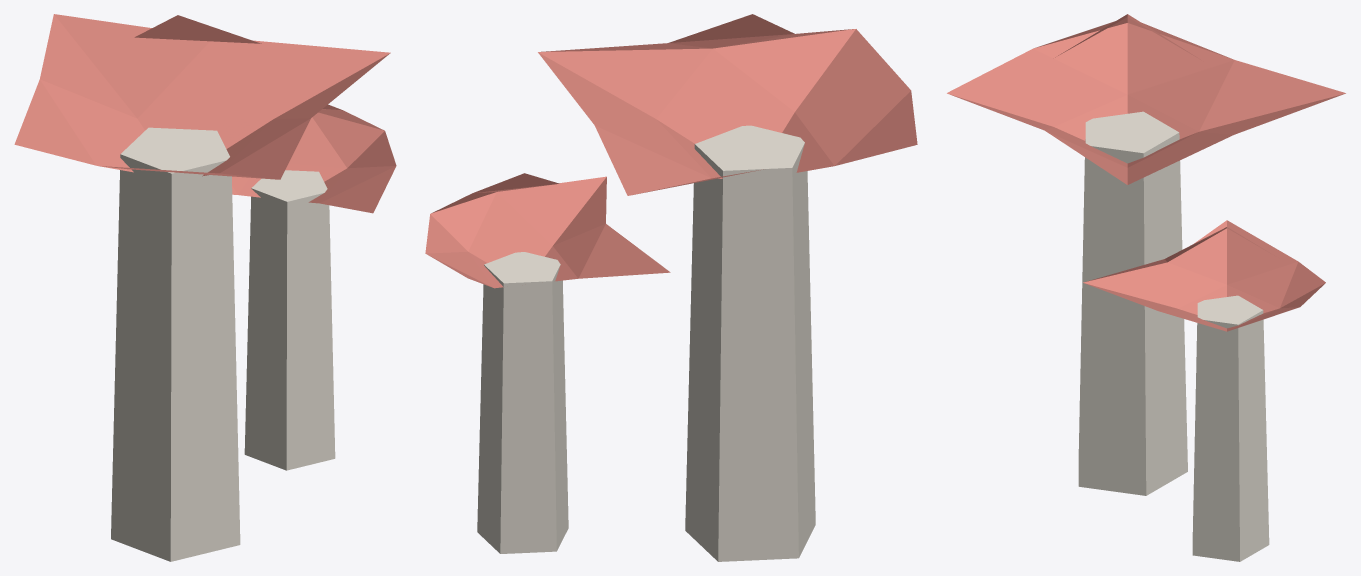
The model's file is mushroom_v00.glb.
3 renders of one model, left to right at view 1: azimuth 30°, elevation 25°; view 2: azimuth 150°, elevation 25°; view 3: azimuth 270°, elevation 25°, orthographic. The views are drawn at different scales.
Visible parts, largest first — view 1: lod0; view 2: lod0; view 3: lod0.
Boxes of the visible parts, x1=… form: lod0: x1=14, y1=14, x2=396, y2=561; lod0: x1=425, y1=14, x2=917, y2=561; lod0: x1=947, y1=14, x2=1345, y2=561.
Size of what is drawn, in the model's own units: 0.3024 by 0.3508 by 0.278.
